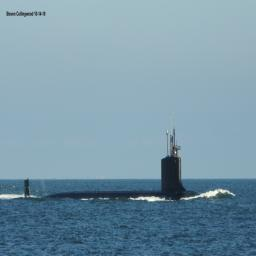submarine: (25, 113, 200, 201)
